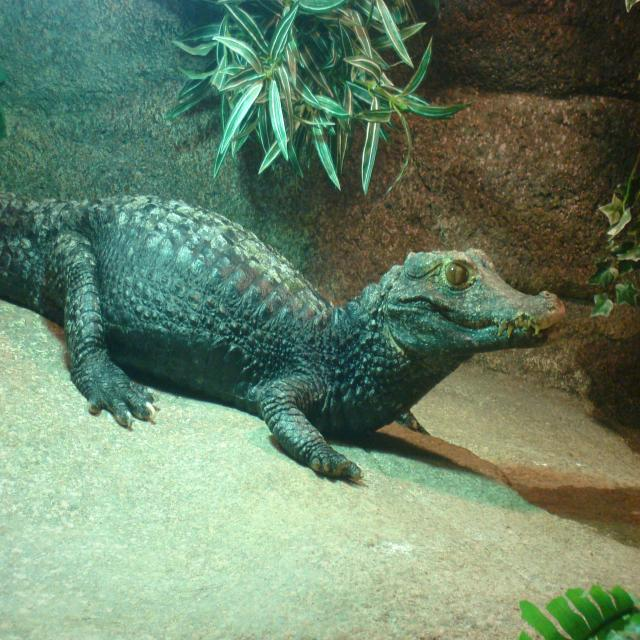crocodile: (0, 149, 602, 537)
